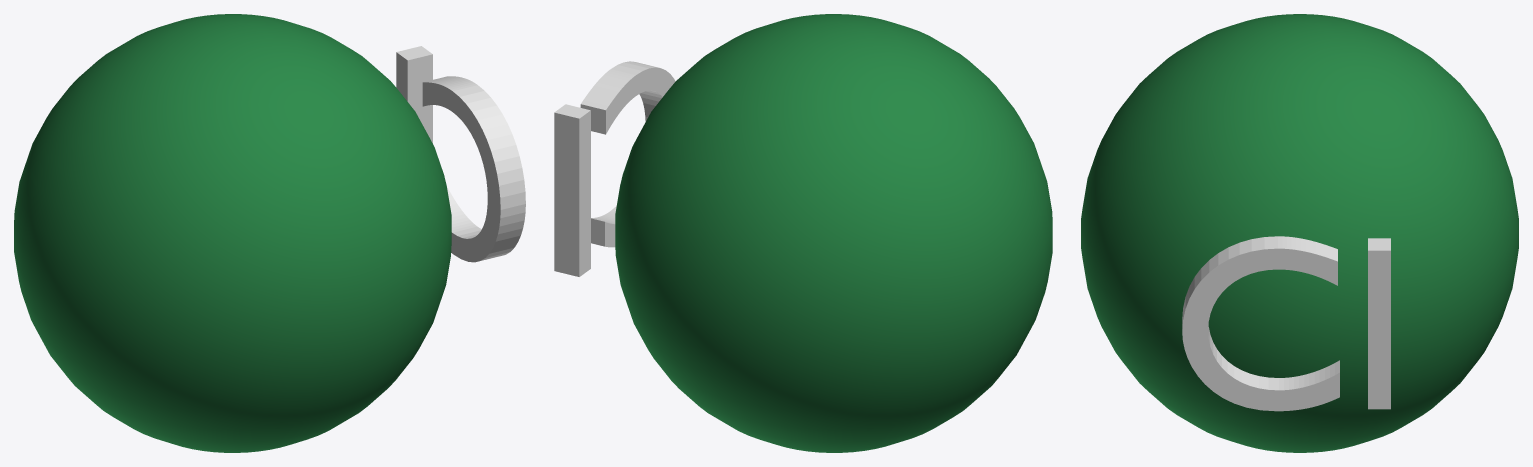
The picture shows the model from 3 angles, left to right: view 1: azimuth 30°, elevation 25°; view 2: azimuth 150°, elevation 25°; view 3: azimuth 270°, elevation 25°; orthographic projection.
Visible parts, largest first — view 1: テキスト; view 2: テキスト; view 3: テキスト.
Part boxes in pixels (x1,y1,x2,y2): テキスト: (14,14,525,452); テキスト: (554,14,1052,452); テキスト: (1081,14,1518,452).
Size of the model in its own units: 223 by 200 by 199.
